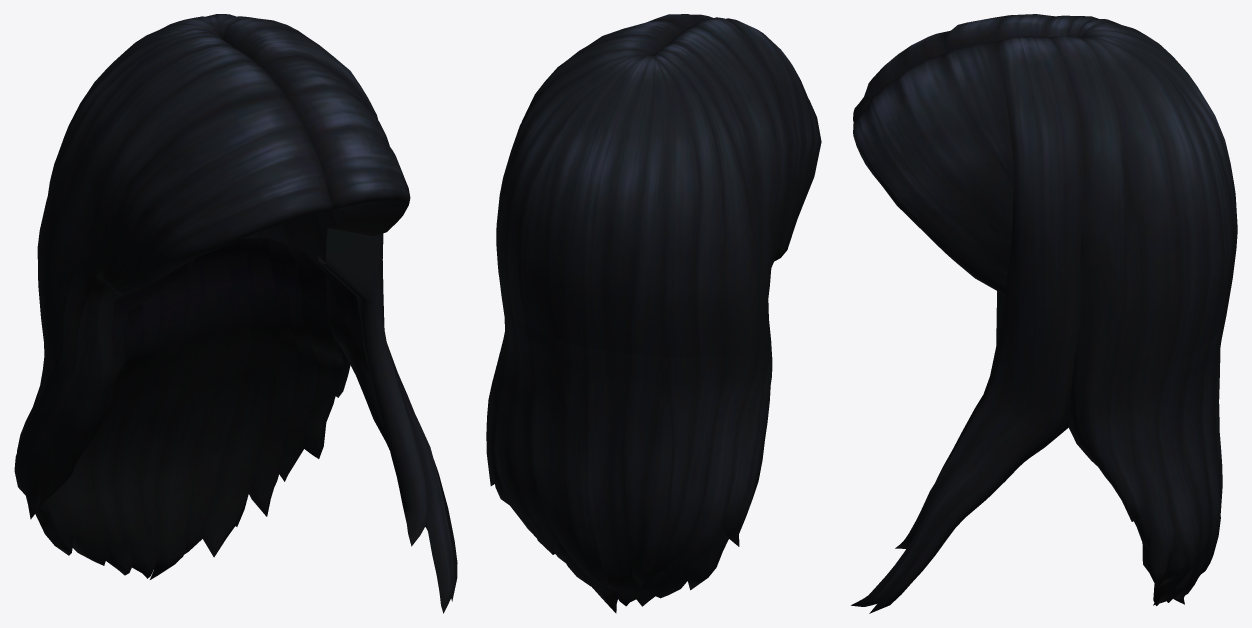
The model's file is hair9.glb.
3 views of the same model, side by side, from view 1: azimuth 30°, elevation 25°; view 2: azimuth 150°, elevation 25°; view 3: azimuth 270°, elevation 25° (orthographic). The views are drawn at different scales.
Visible parts, largest first — view 1: s4studio_mesh_2, s4studio_mesh_1, s4studio_mesh_3; view 2: s4studio_mesh_2, s4studio_mesh_1; view 3: s4studio_mesh_2, s4studio_mesh_1, s4studio_mesh_3.
Boxes of the visible parts, box(x1,y1,x2,y2) form: s4studio_mesh_2: box(14, 14, 457, 613); s4studio_mesh_1: box(15, 177, 454, 583); s4studio_mesh_3: box(101, 153, 399, 326); s4studio_mesh_2: box(494, 14, 820, 601); s4studio_mesh_1: box(486, 119, 821, 613); s4studio_mesh_2: box(851, 14, 1237, 613); s4studio_mesh_1: box(866, 179, 1226, 611); s4studio_mesh_3: box(862, 94, 1064, 261).
Bounding box in the file's own units: 0.179 × 0.3226 × 0.1942.
Materials: 1 (1 with a texture image).
